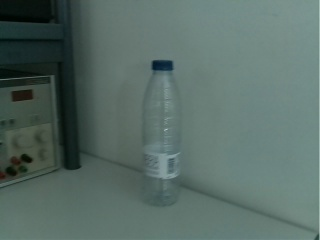botella plastico: (139, 58, 181, 206)
